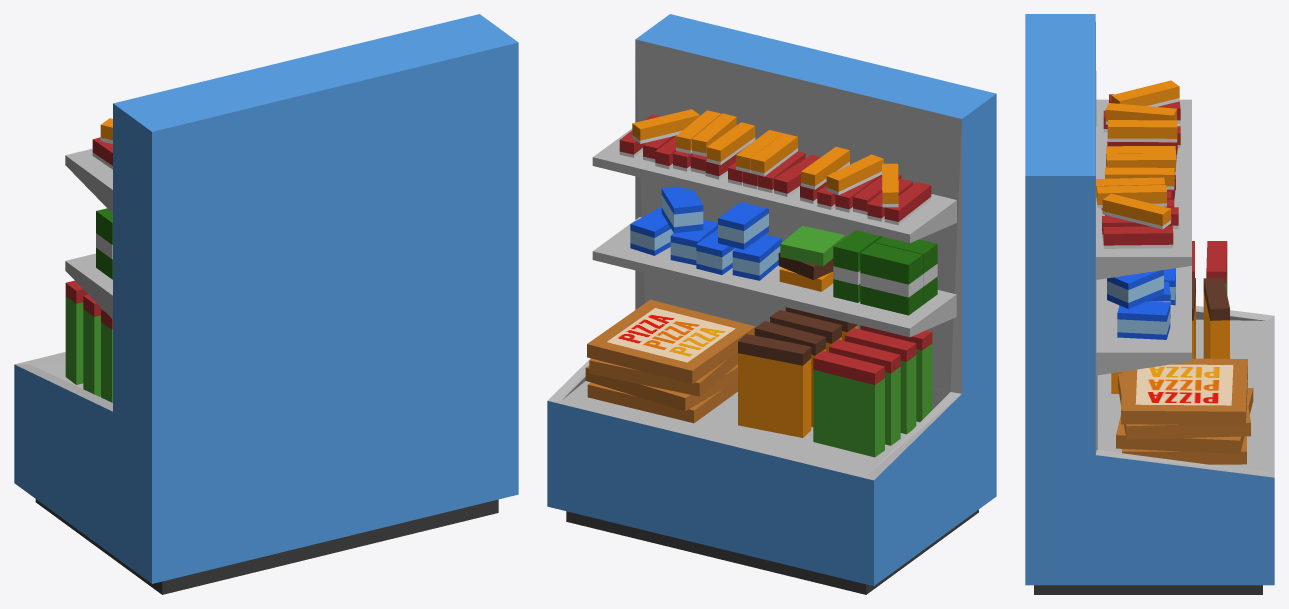
File: Shelf.fbx
3 views of the same model, side by side, from view 1: azimuth 30°, elevation 25°; view 2: azimuth 150°, elevation 25°; view 3: azimuth 270°, elevation 25° (orthographic). The views are drawn at different scales.
Parts seen in each view (by area): view 1: Cube.007; view 2: Cube.007; view 3: Cube.007.
Boxes of the visible parts, x1,y1,x2,y2 form: Cube.007: (14,14,518,594); Cube.007: (547,14,996,594); Cube.007: (1025,14,1274,594).
Size of the model in its own units: 807 by 526 by 989.
